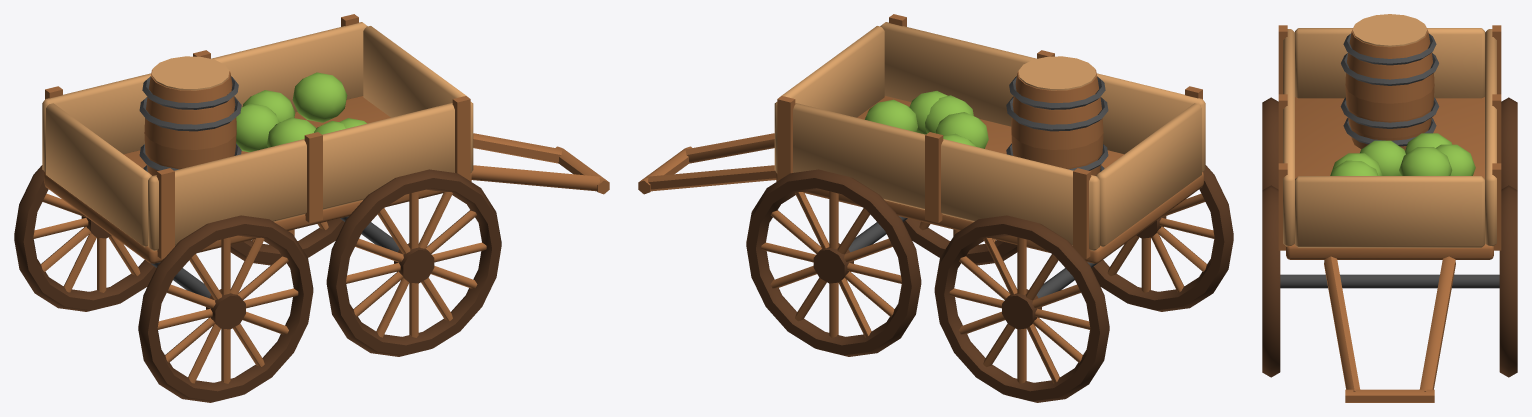
Rendered from carroca.glb.
The picture shows the model from 3 angles, left to right: view 1: azimuth 30°, elevation 25°; view 2: azimuth 150°, elevation 25°; view 3: azimuth 270°, elevation 25°; orthographic projection. The views are drawn at different scales.
Parts seen in each view (by area): view 1: Carroca; view 2: Carroca; view 3: Carroca.
Part boxes in pixels (x1,y1,x2,y2): Carroca: (14,14,609,402); Carroca: (638,14,1233,402); Carroca: (1262,14,1517,402).
Bounding box in the file's own units: 1.9 × 0.9751 × 0.8606.
